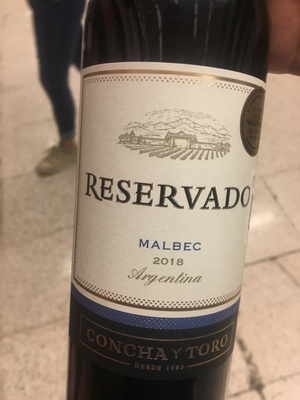reservado malbec: (77, 5, 267, 400)
